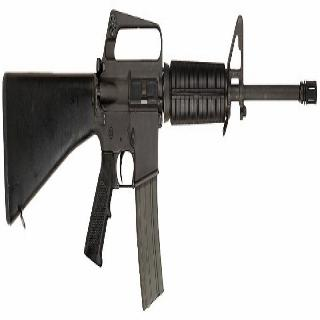gun: (1, 0, 317, 313)
